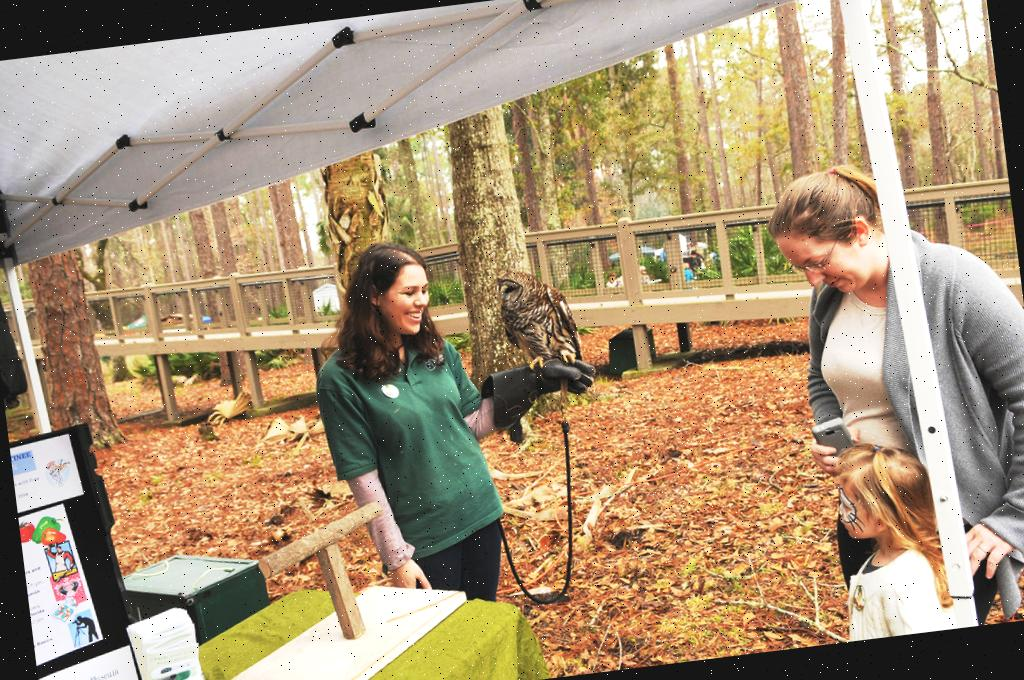Owl: (494, 261, 586, 378)
